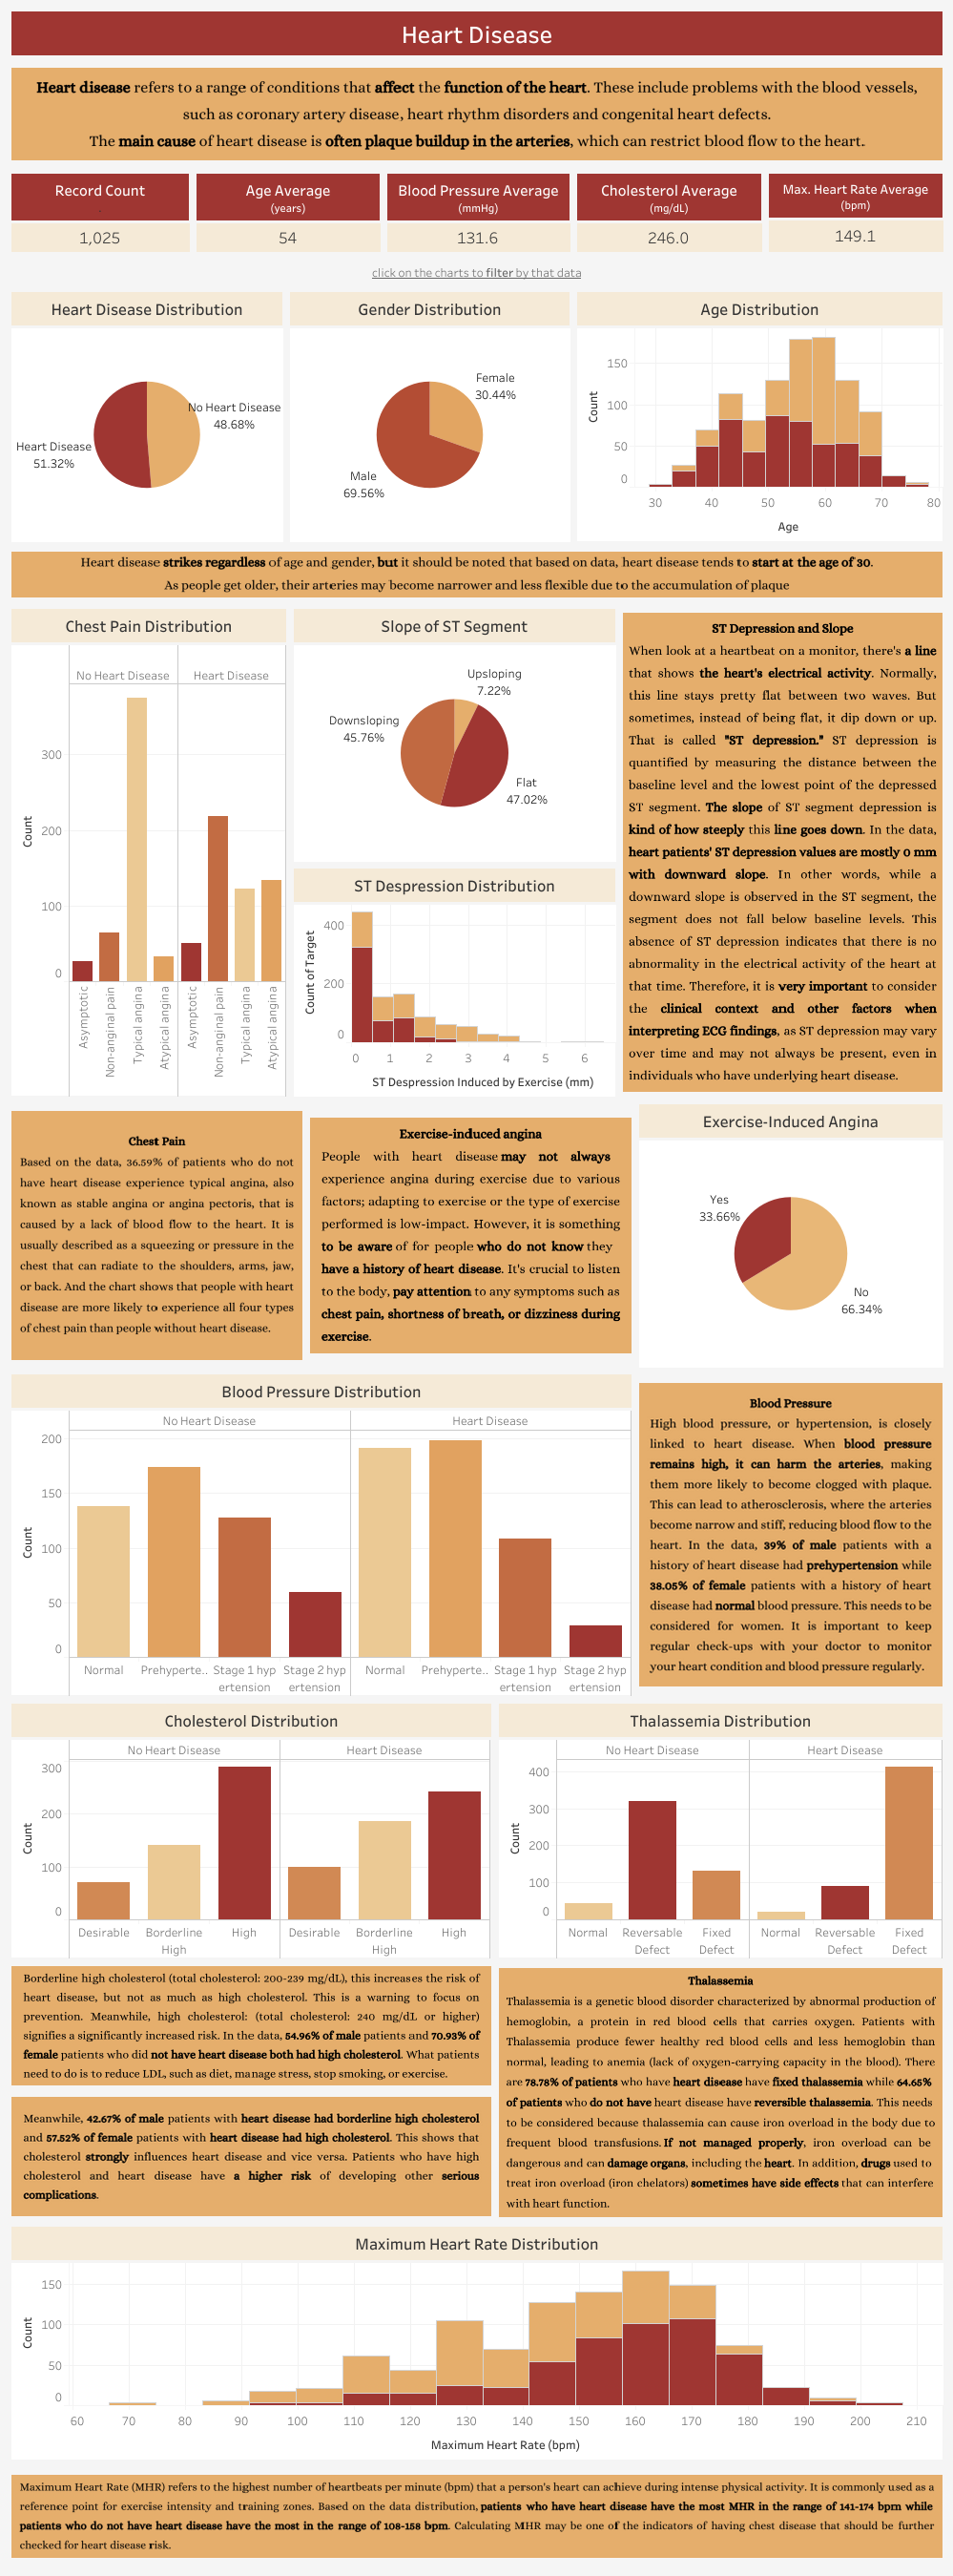

Layout of this report page (visuals, bound fields, positions):
{"tool":"tableau","page":{"name":"Dashboard 1","canvas":[1000,2700],"ordinal":0},"visuals":[{"type":"worksheet","title":"Judul","mark":"Automatic","box":[8,8,984,53.9]},{"type":"image","param":"Image/Image_Explain (1).png","box":[8,61.9,984,115.7]},{"type":"worksheet","title":"Heart Disease Count","mark":"Automatic","box":[8,177.6,194,89.6]},{"type":"worksheet","title":"Age Average","mark":"Automatic","box":[202,177.6,200,89.6]},{"type":"worksheet","title":"Blood Pressure Avg","mark":"Automatic","box":[402,177.6,199,89.6]},{"type":"worksheet","title":"Chol avg.","mark":"Automatic","box":[600.9,177.6,201,89.6]},{"type":"worksheet","title":"Max. Heart Rate Avg","mark":"Automatic","box":[801.9,177.6,190.1,89.6]},{"type":"text","box":[8,267.2,984,34.9]},{"type":"worksheet","title":"Heart Disease Distribution","mark":"Pie","box":[8,302.1,291.9,268.8]},{"type":"worksheet","title":"Gender Distribution","mark":"Pie","box":[299.9,302.1,300.9,268.8]},{"type":"worksheet","title":"Age Distribution","mark":"Automatic","rows":["age"],"cols":["Age (bin)"],"box":[600.8,302.1,391.2,268.8]},{"type":"image","param":"Image/Image_Age and Gender.png","box":[8,570.9,984,63.3]},{"type":"worksheet","title":"Chest Pain Type Distribution","mark":"Bar","rows":["target"],"cols":["target","chest pain type"],"box":[8,634.2,296,518.7]},{"type":"worksheet","title":"Slope Type","mark":"Pie","box":[304,634.2,345,271.7]},{"type":"image","param":"Image/Image_ST Depr and slope.png","box":[649,634.2,343,518.7]},{"type":"worksheet","title":"ST Depression Dist.","mark":"Automatic","rows":["oldpeak"],"cols":["Oldpeak (bin)"],"box":[304,905.9,345,247]},{"type":"image","param":"Image/Image_Explain (650 x 220 px)_Chest.png","box":[8,1152.9,313,283.1]},{"type":"image","param":"Image/Image_Exercise-inducedangina.png","box":[321,1152.9,345,283.1]},{"type":"worksheet","title":"Exang Dist.","mark":"Pie","box":[666,1152.9,326,283.5]},{"type":"worksheet","title":"Blood Pressure Type","mark":"Automatic","rows":["Calculation_612771033883951104"],"cols":["target","Calculation_612771033883951104"],"box":[8,1436,658,345.1]},{"type":"image","param":"Image/Image_Explain (300 x 300 px)_Blood Pressure.png","box":[666,1436.4,326,344.7]},{"type":"worksheet","title":"Chol Type","mark":"Automatic","rows":["Calculation_691302552628170752"],"cols":["target","Calculation_691302552628170752"],"box":[8,1781.1,511,274.5]},{"type":"worksheet","title":"Thal Dist","mark":"Automatic","rows":["thal"],"cols":["target","thal"],"box":[519,1781.1,473,274.5]},{"type":"image","param":"Image/Image_Chol.png","box":[8,2055.6,511,134.4]},{"type":"image","param":"Image/Image_Thalas.png","box":[519,2055.6,473,273.4]},{"type":"image","param":"Image/Image_Explain (300 x 300 px) (500 x 125 px).png","box":[8,2190,511,139]},{"type":"worksheet","title":"Max. Heart Rate Dist.","mark":"Automatic","rows":["maximum heart rate"],"cols":["Maximum Heart Rate (bin)"],"box":[8,2329,984,252]},{"type":"image","param":"Image/MHR.png","box":[8,2581,984,111]}]}

Visuals, with their boxes in screenshot pixels (x1, y1, x2, y2), scaled from the page's 1000x2700 canvas onto the 953x2576 screenshot:
"Judul" worksheet: [left=8, top=8, right=945, bottom=59]
image: [left=8, top=59, right=945, bottom=170]
"Heart Disease Count" worksheet: [left=8, top=170, right=193, bottom=255]
"Age Average" worksheet: [left=193, top=170, right=383, bottom=255]
"Blood Pressure Avg" worksheet: [left=383, top=170, right=572, bottom=255]
"Chol avg." worksheet: [left=572, top=170, right=764, bottom=255]
"Max. Heart Rate Avg" worksheet: [left=764, top=170, right=945, bottom=255]
text: [left=8, top=255, right=945, bottom=288]
"Heart Disease Distribution" worksheet (Pie marks): [left=8, top=288, right=286, bottom=545]
"Gender Distribution" worksheet (Pie marks): [left=286, top=288, right=572, bottom=545]
"Age Distribution" worksheet: [left=572, top=288, right=945, bottom=545]
image: [left=8, top=545, right=945, bottom=605]
"Chest Pain Type Distribution" worksheet (Bar marks): [left=8, top=605, right=290, bottom=1100]
"Slope Type" worksheet (Pie marks): [left=290, top=605, right=618, bottom=865]
image: [left=618, top=605, right=945, bottom=1100]
"ST Depression Dist." worksheet: [left=290, top=865, right=618, bottom=1100]
image: [left=8, top=1100, right=306, bottom=1370]
image: [left=306, top=1100, right=634, bottom=1370]
"Exang Dist." worksheet (Pie marks): [left=634, top=1100, right=945, bottom=1371]
"Blood Pressure Type" worksheet: [left=8, top=1370, right=634, bottom=1699]
image: [left=634, top=1371, right=945, bottom=1699]
"Chol Type" worksheet: [left=8, top=1699, right=494, bottom=1961]
"Thal Dist" worksheet: [left=494, top=1699, right=945, bottom=1961]
image: [left=8, top=1961, right=494, bottom=2089]
image: [left=494, top=1961, right=945, bottom=2222]
image: [left=8, top=2089, right=494, bottom=2222]
"Max. Heart Rate Dist." worksheet: [left=8, top=2222, right=945, bottom=2462]
image: [left=8, top=2462, right=945, bottom=2568]
